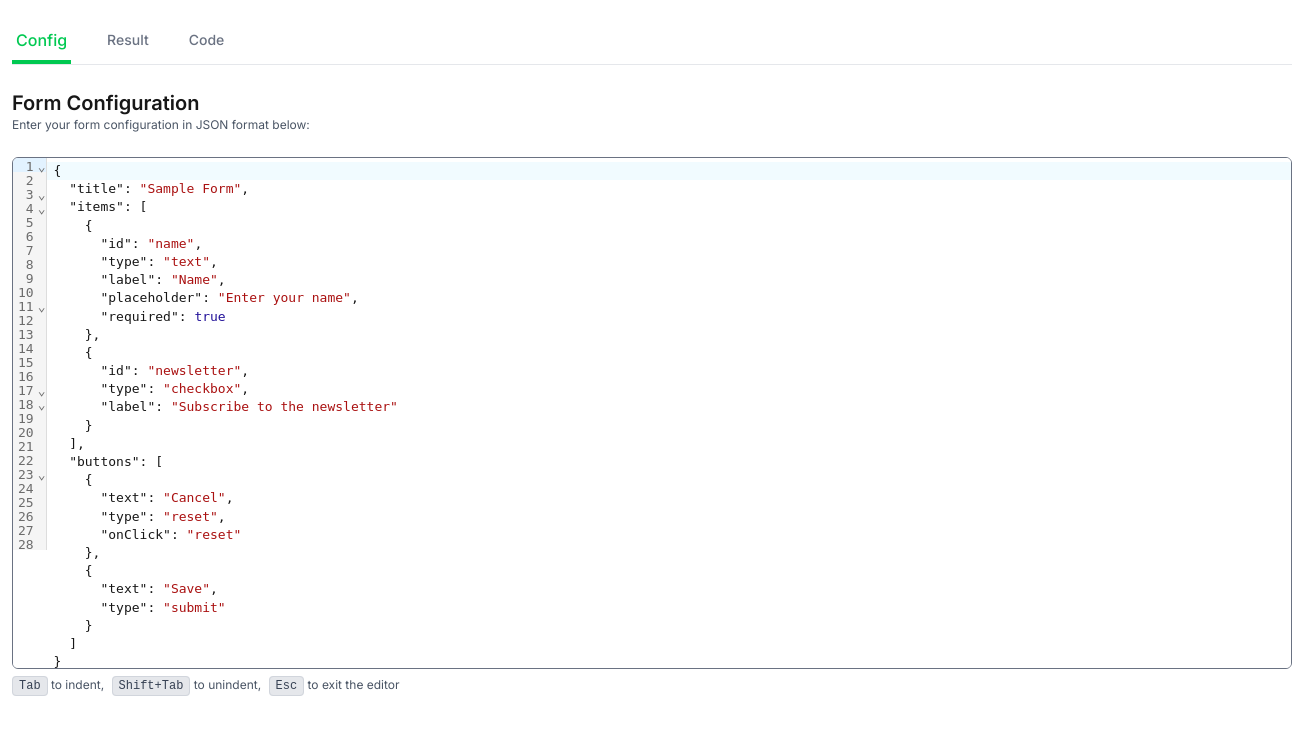
Test: Home › renders the correct tab content
Step 1. Click the tab "result" → (128, 38), box left=103, top=12, right=153, bottom=64
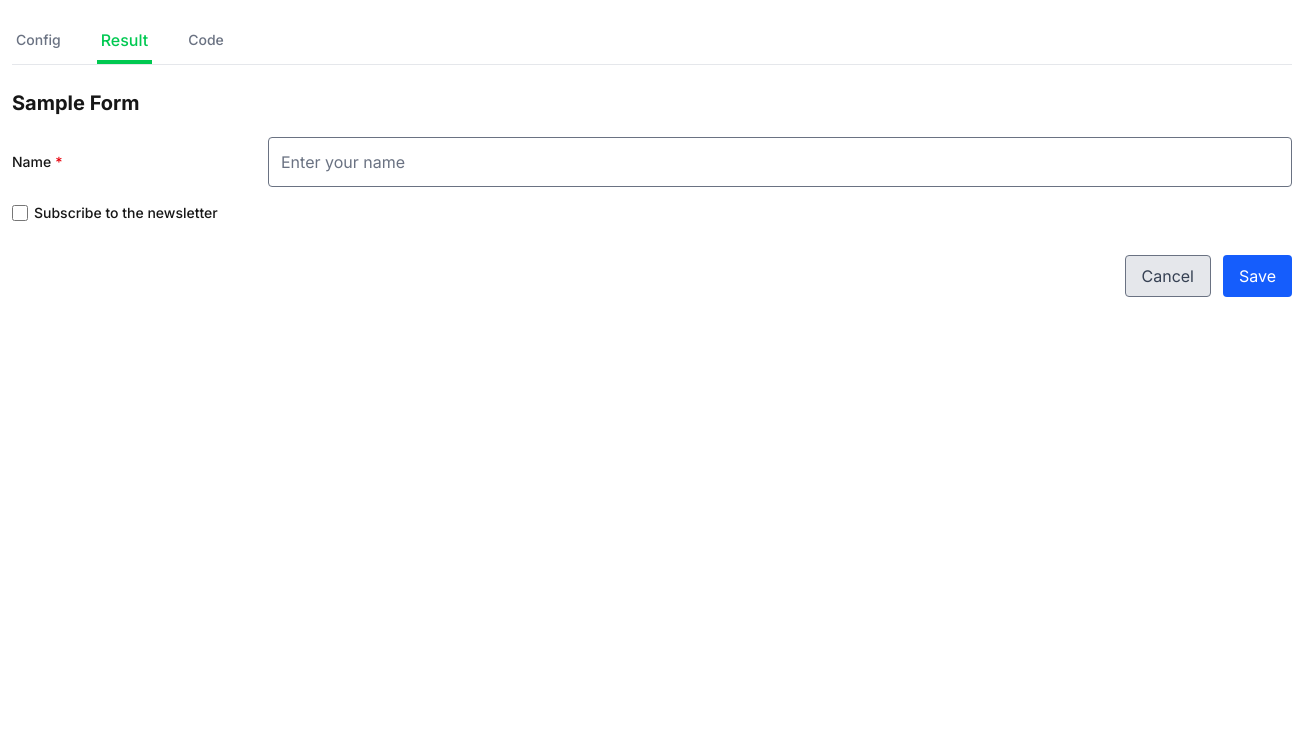
Expected: the panel is shown, left=12, top=89, right=1292, bottom=297
Step 2. Click the tab "code" → (206, 38), box left=184, top=12, right=228, bottom=64
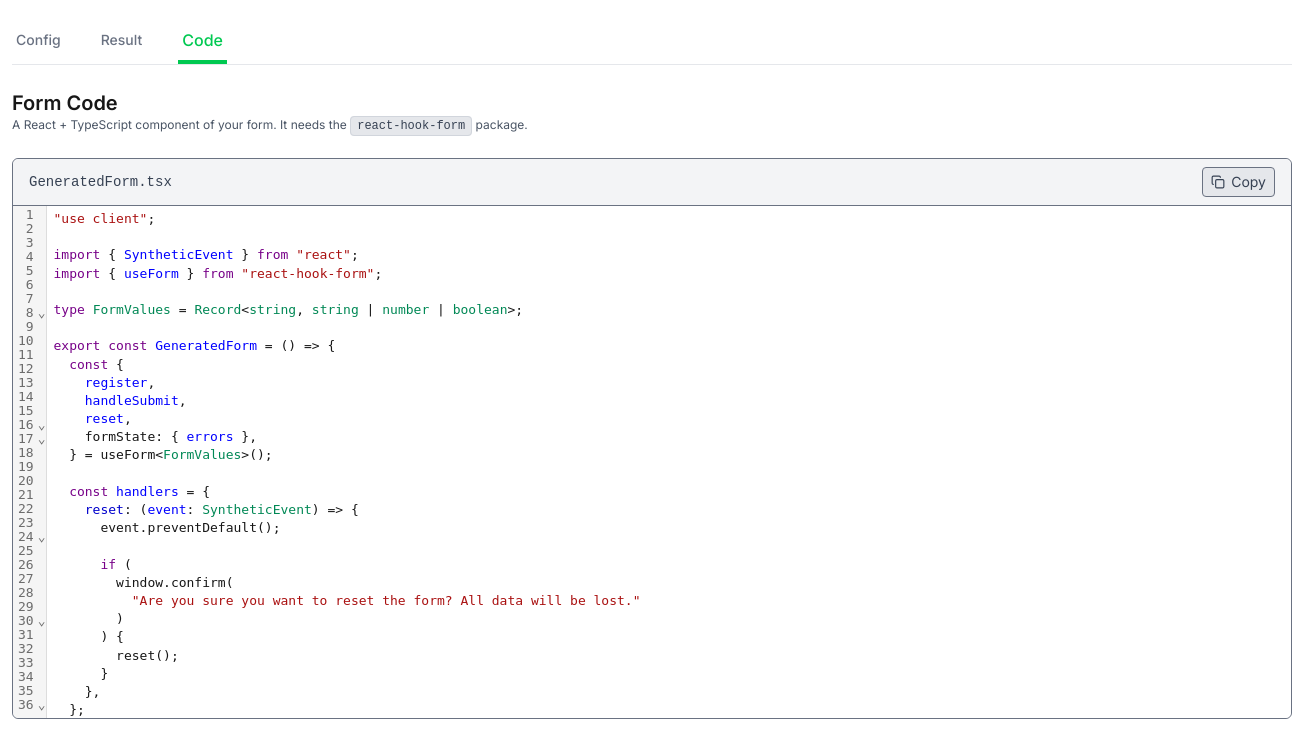
Expected: the panel is shown
Step 3. Click the tab "config" → (38, 38), box left=12, top=12, right=65, bottom=64
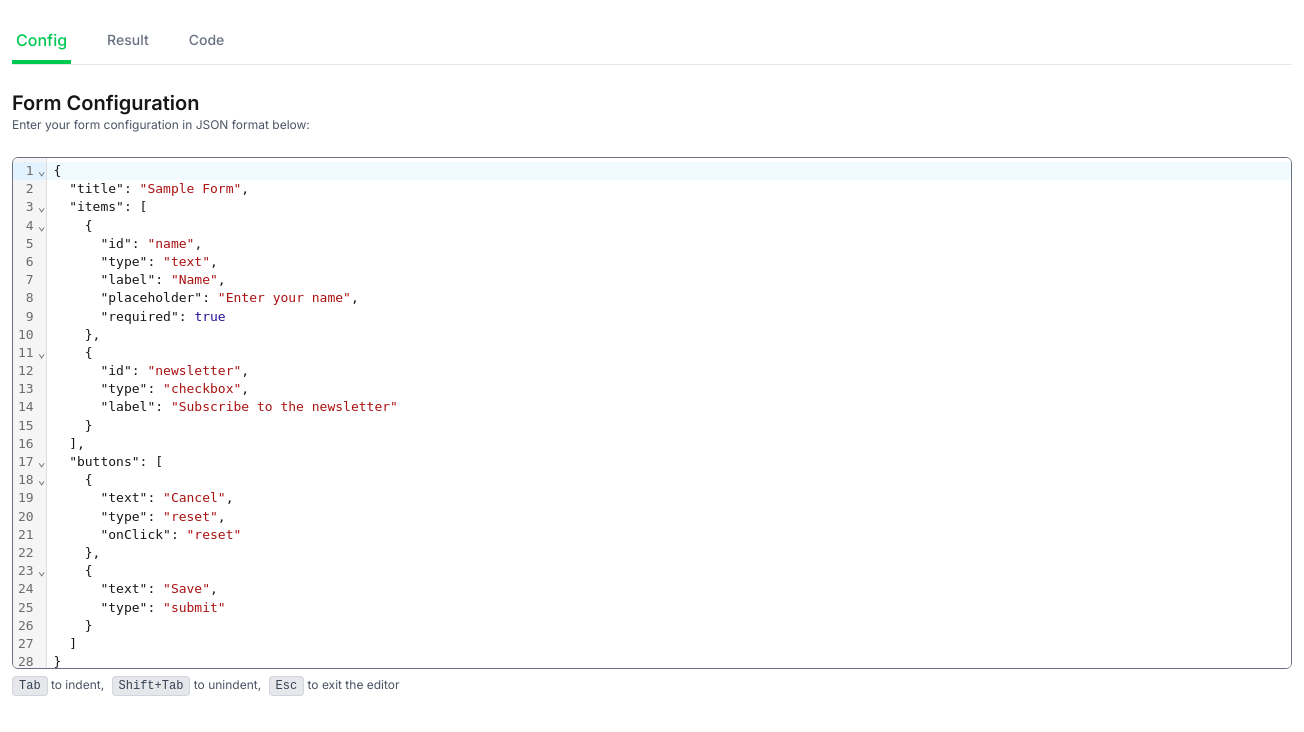
Expected: the panel is shown
